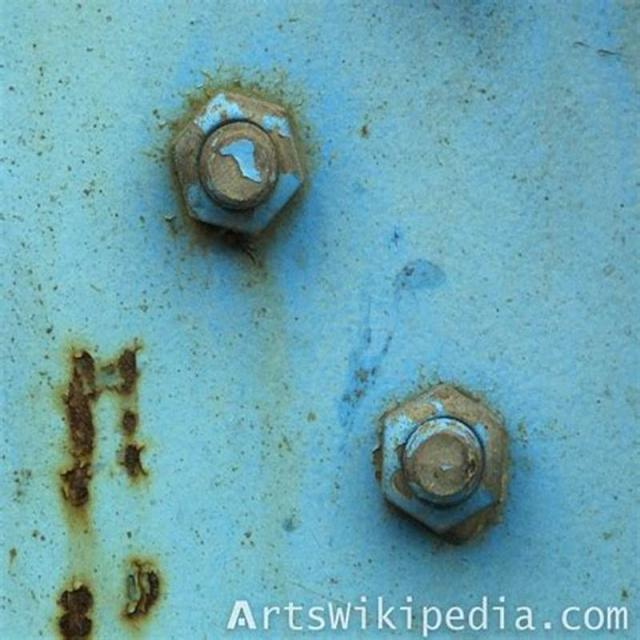bolt nut: (168, 87, 306, 242), (378, 376, 507, 538)
